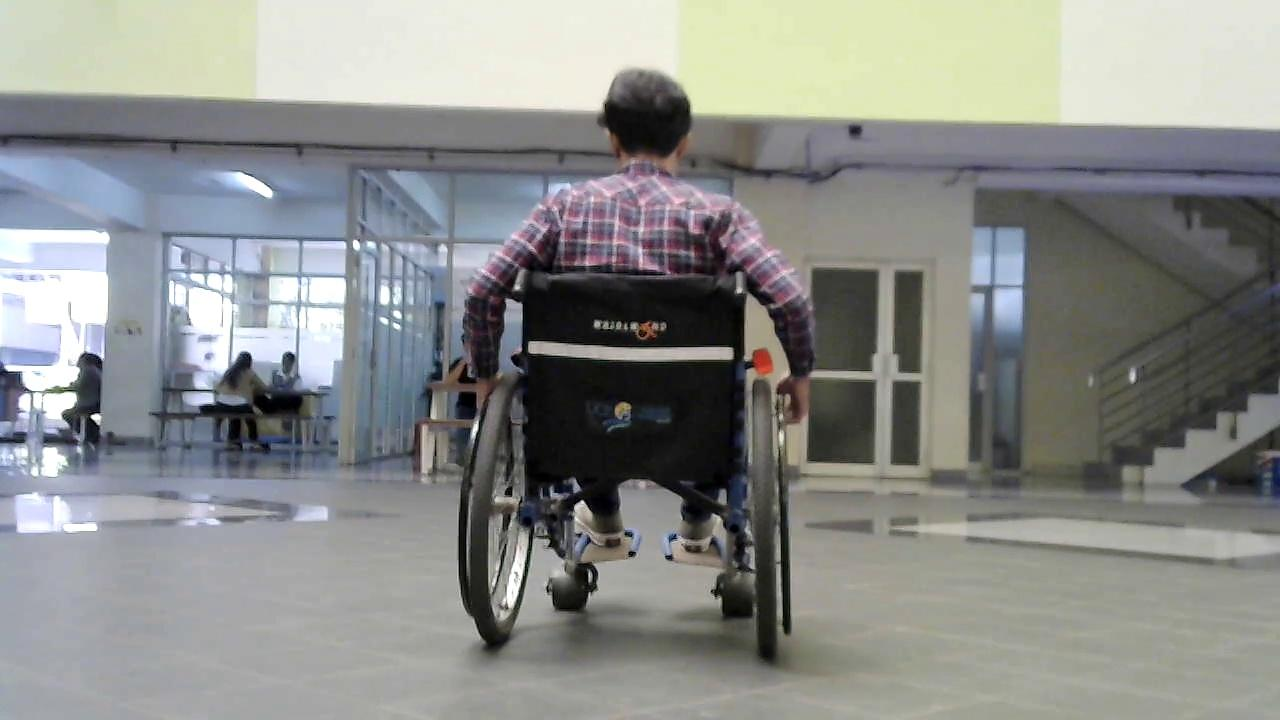person: (459, 68, 816, 421), (61, 349, 103, 458)
wheelchair: (427, 243, 829, 698)
